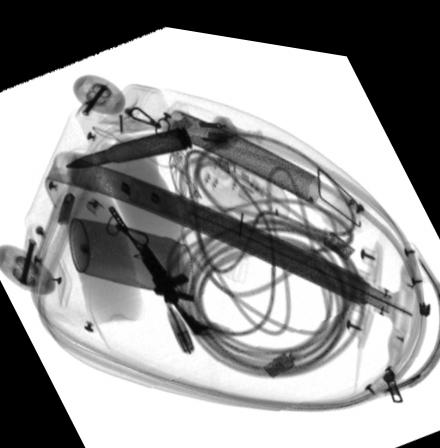Bullet: (64, 119, 192, 165)
Gun: (107, 202, 210, 330)
